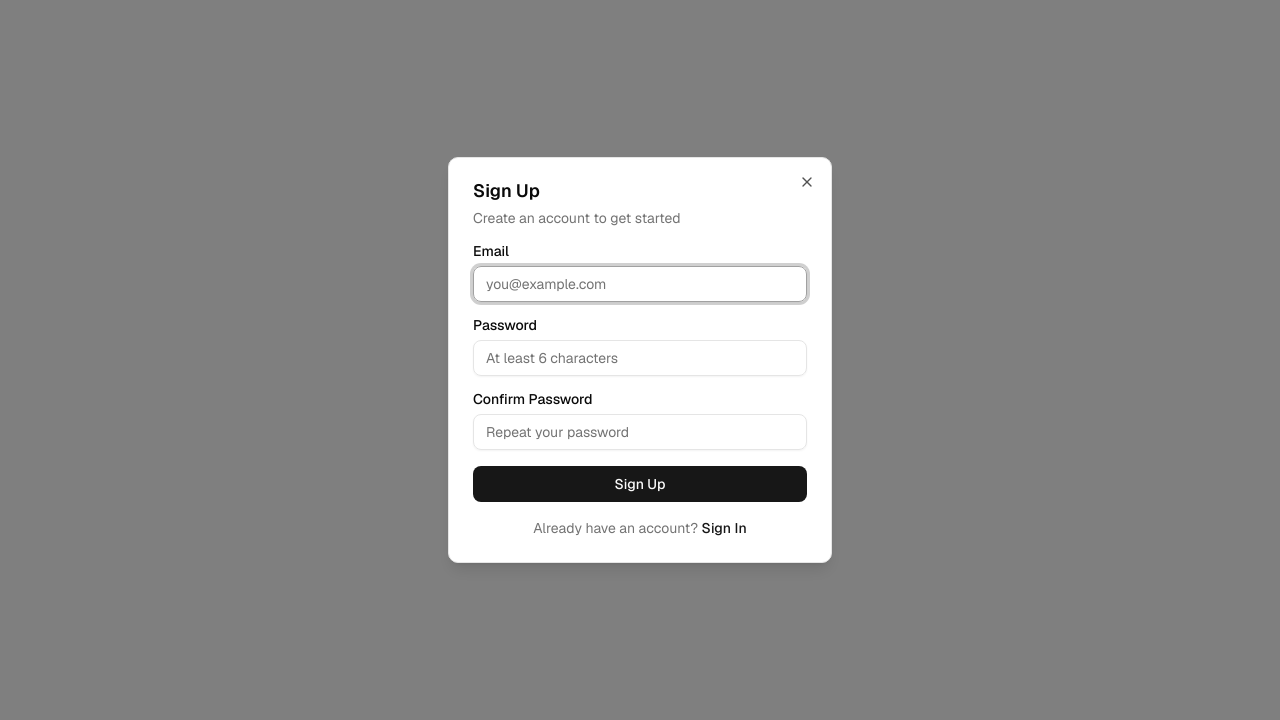
AuthDialog › shows error when register password is too short
The image size is (1280, 720).
Type "test@example.com" into the field labelled "Email" at (640, 284), box top-left (473, 266), bottom-right (807, 302)
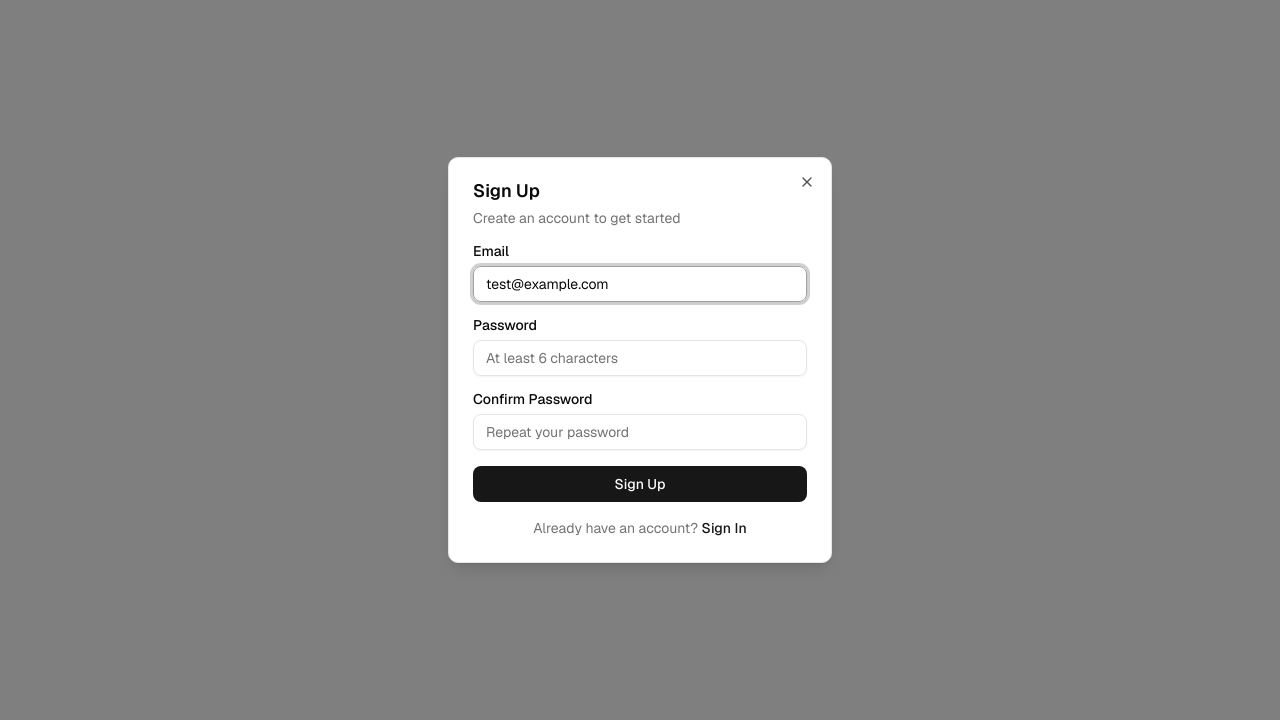
Type "12345" into the password field labelled "Password" at (640, 358), box top-left (473, 340), bottom-right (807, 376)
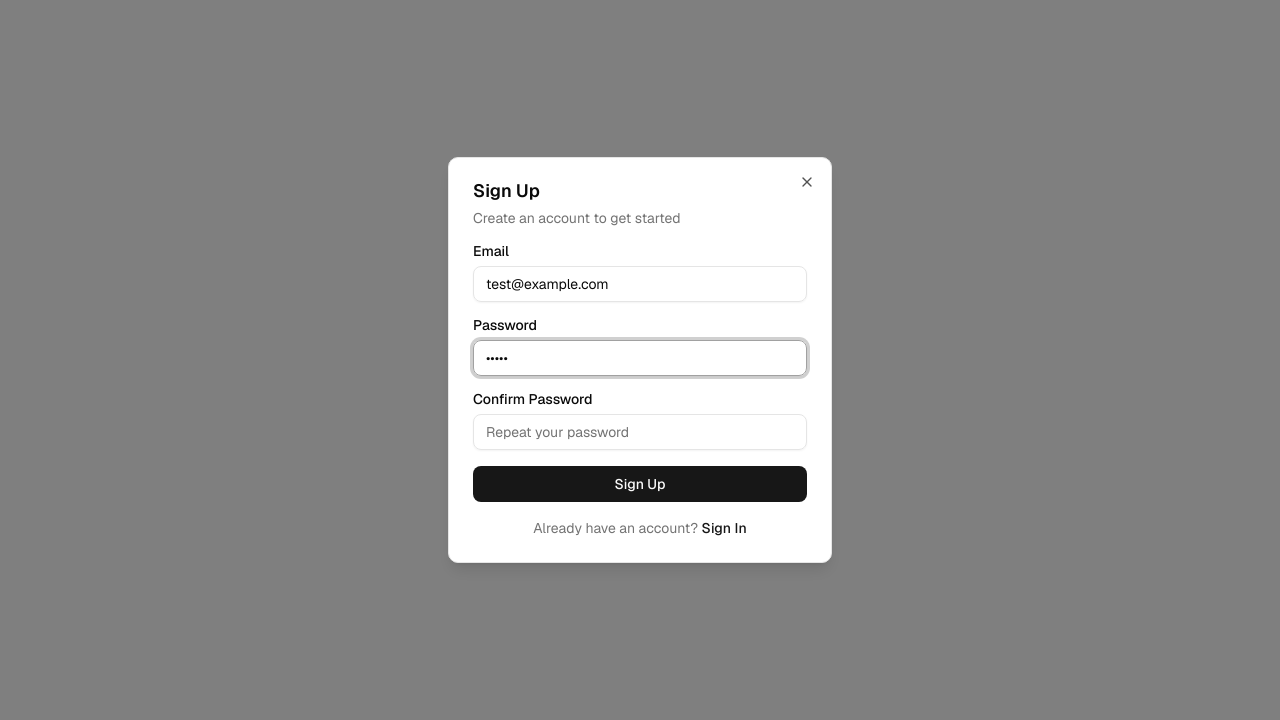
Type "12345" into the password field labelled "Confirm Password" at (640, 432), box top-left (473, 414), bottom-right (807, 450)
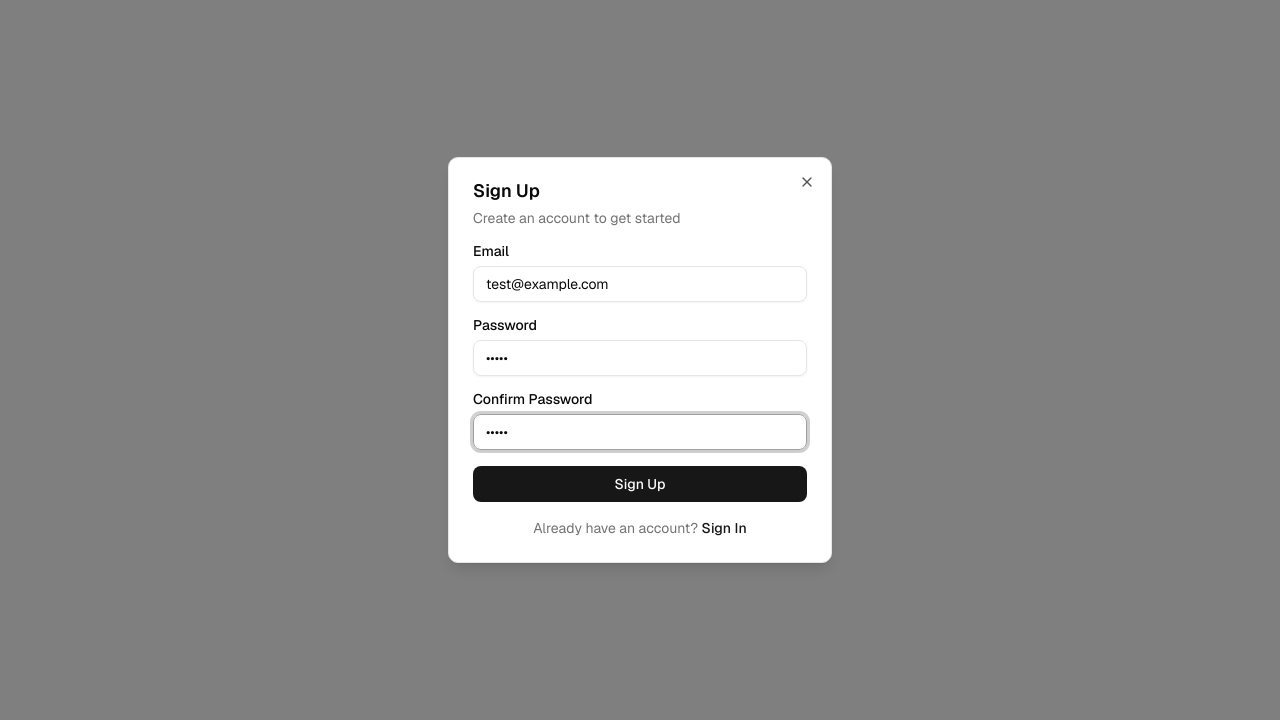
Click the button "Sign Up" at (640, 484), box top-left (473, 466), bottom-right (807, 502)
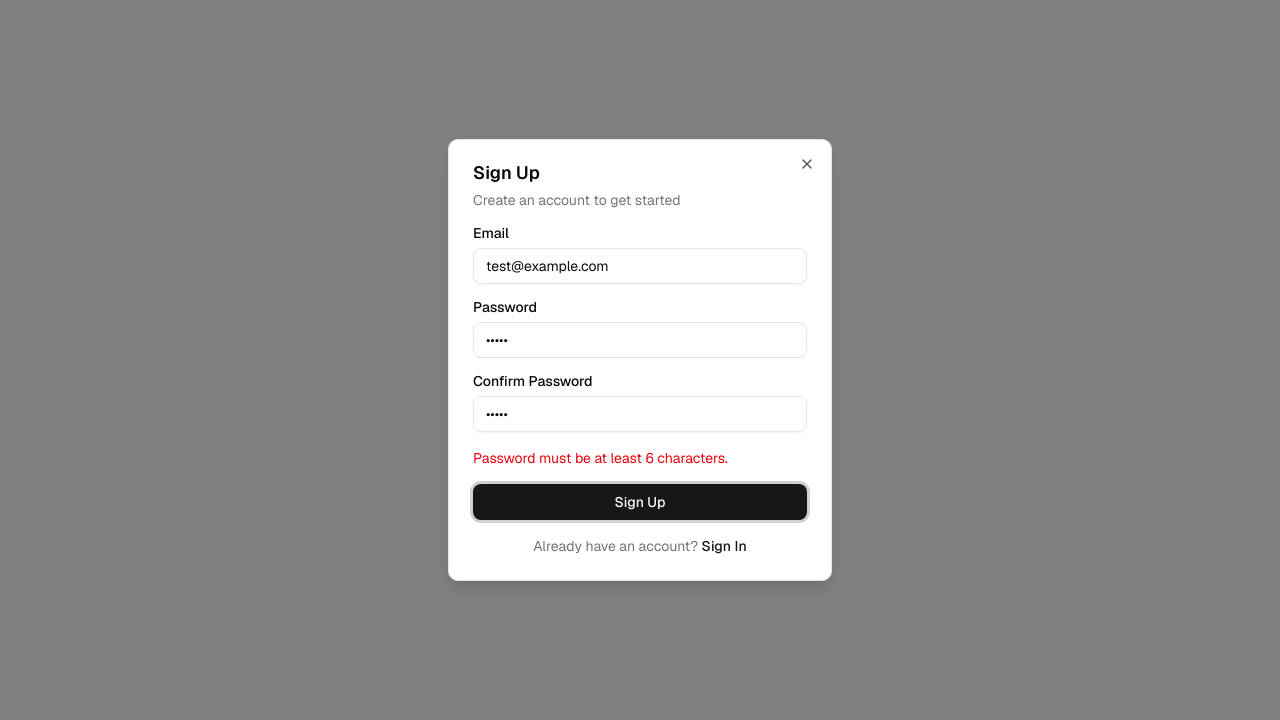
Expected: the message reads "Password must be at least 6 characters.", top-left (473, 449), bottom-right (728, 467)
